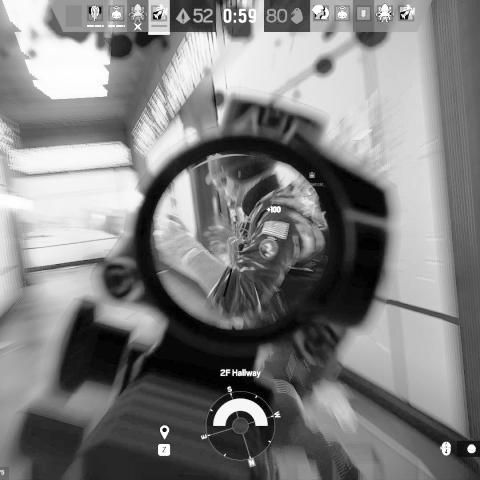Character: (151, 151, 363, 480)
Friend_label: (298, 170, 324, 188)
Head: (207, 154, 273, 208)
